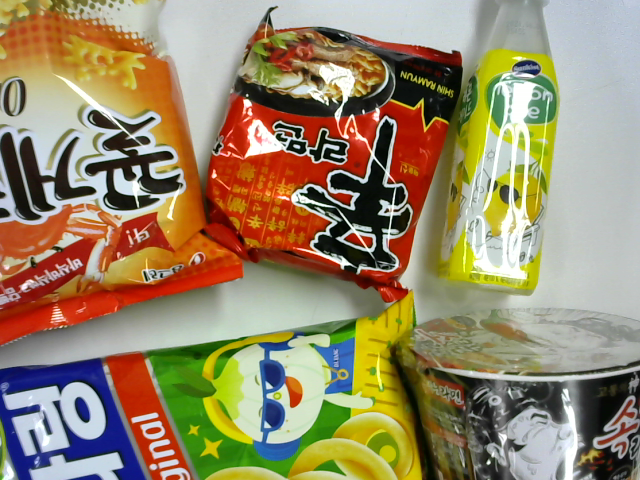Crabrang: (1, 3, 214, 334)
HeJangsock: (396, 297, 638, 480)
Oninon_Ring: (1, 308, 433, 479)
Sinramen: (199, 16, 468, 306)
Sunkist_Lemonaid_Pet: (427, 1, 576, 300)
